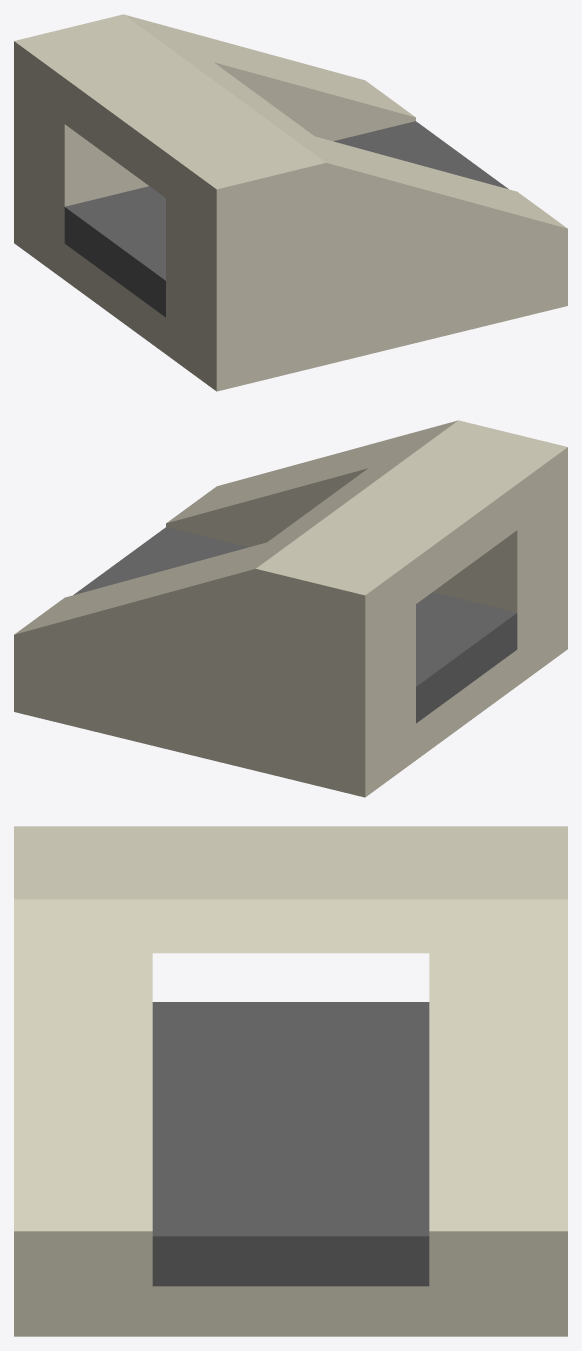
File: roadTile_220.fbx
3 views of the same model, one above another, from view 1: azimuth 30°, elevation 25°; view 2: azimuth 150°, elevation 25°; view 3: azimuth 270°, elevation 25° (orthographic). The views are drawn at different scales.
Parts seen in each view (by area): view 1: roadTile_220; view 2: roadTile_220; view 3: roadTile_220.
Part boxes in pixels (<box>): roadTile_220: <box>14,14,567,391</box>; roadTile_220: <box>14,420,567,797</box>; roadTile_220: <box>14,826,567,1336</box>.
Size of the model in its own units: 118 by 64.96 by 118.
